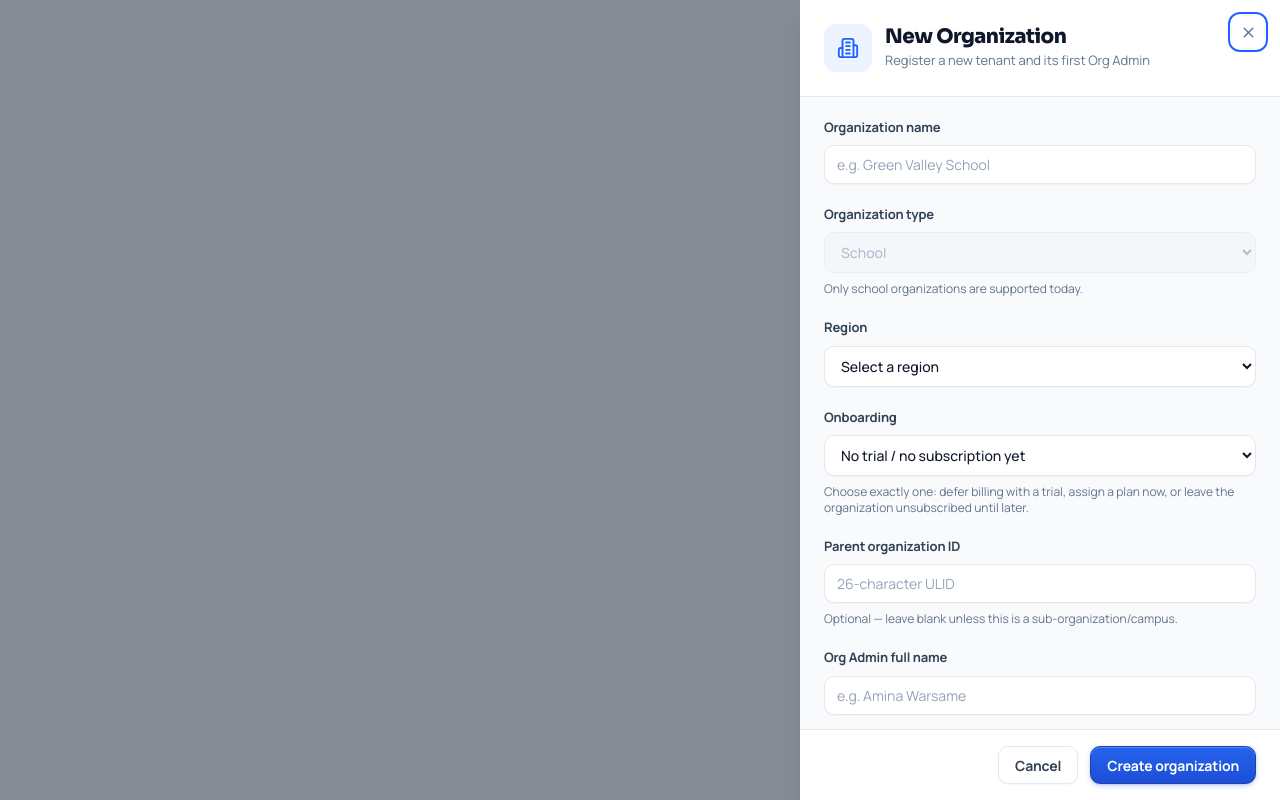
Test: CreateOrganizationForm › rejects a malformed parent organization id
Type "Green Valley School" into the field with placeholder "e.g. Green Valley School".
click(1040, 165); type("Green Valley School")  # box [824,145,1256,184]
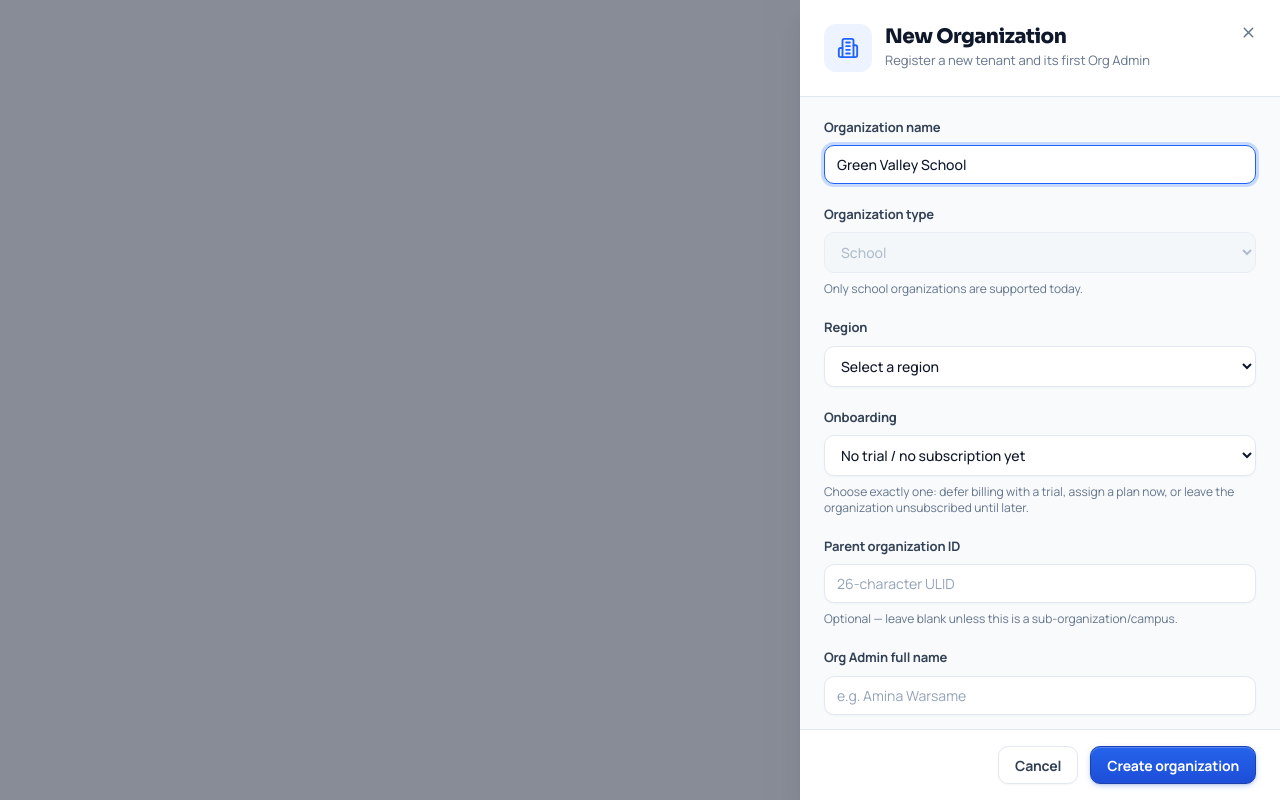
Select "Northern Region" in the dropdown labelled "Region" at (1040, 366), box [824,346,1256,387]
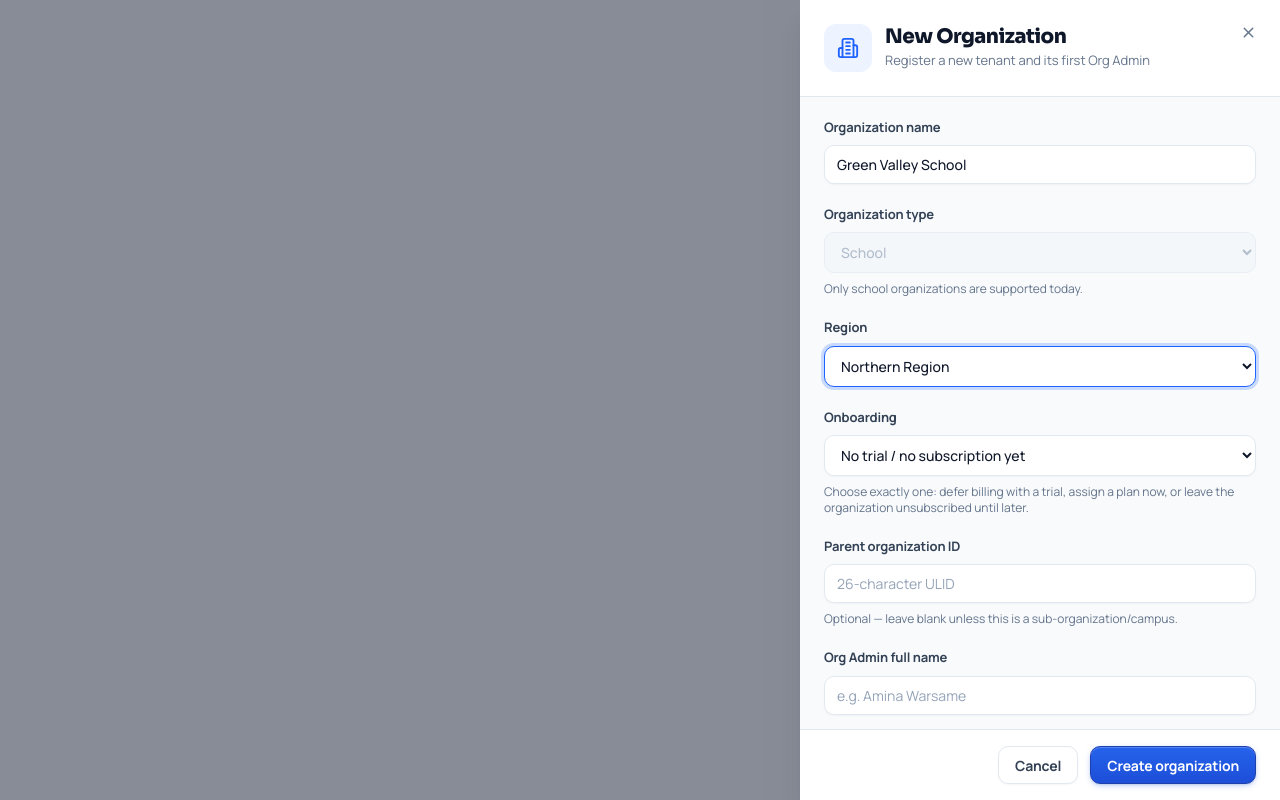
Type "Amina Warsame" into the field with placeholder "e.g. Amina Warsame".
click(1040, 695); type("Amina Warsame")  # box [824,676,1256,715]
(page scrolled)
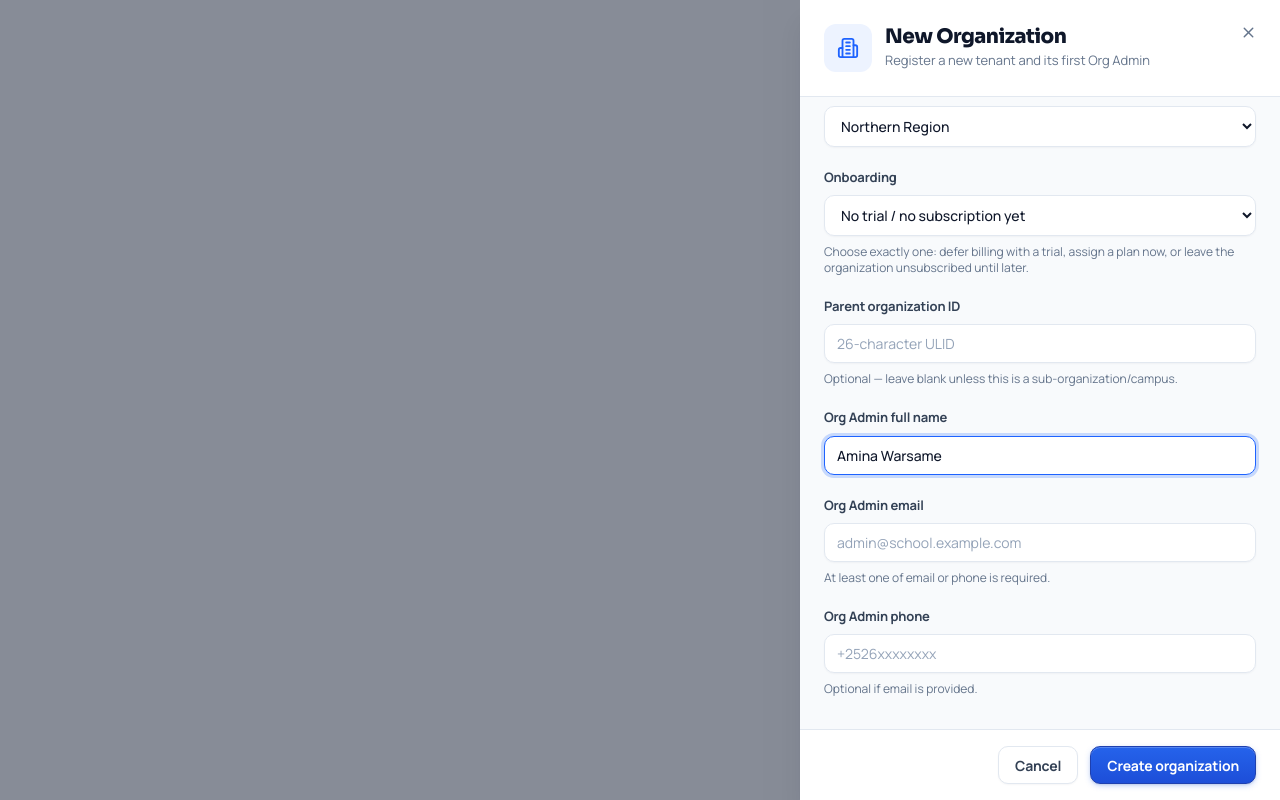
Type "amina@greenvalley.example.com" into the field with placeholder "admin@school.example.com".
click(1040, 542); type("amina@greenvalley.example.com")  # box [824,523,1256,562]
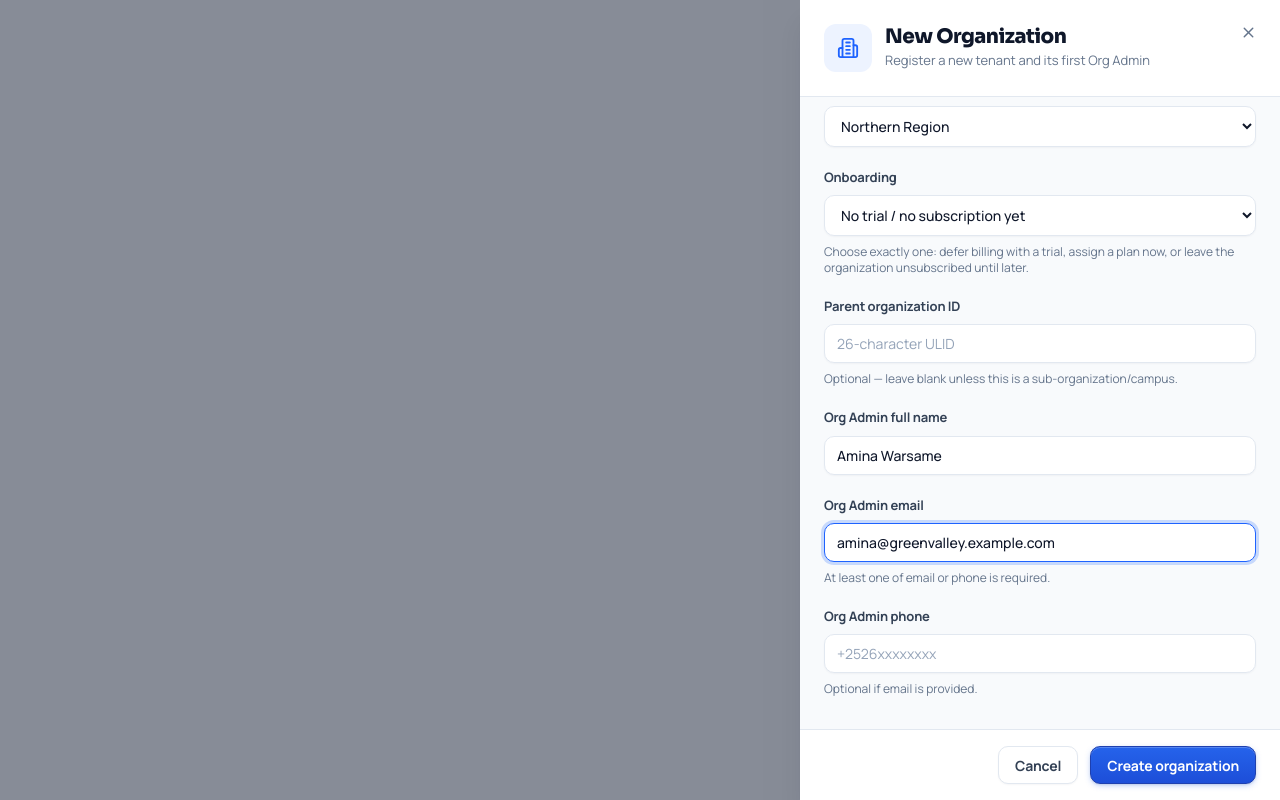
Type "not-a-ulid" into the field with placeholder "26-character ULID".
click(1040, 344); type("not-a-ulid")  # box [824,324,1256,363]
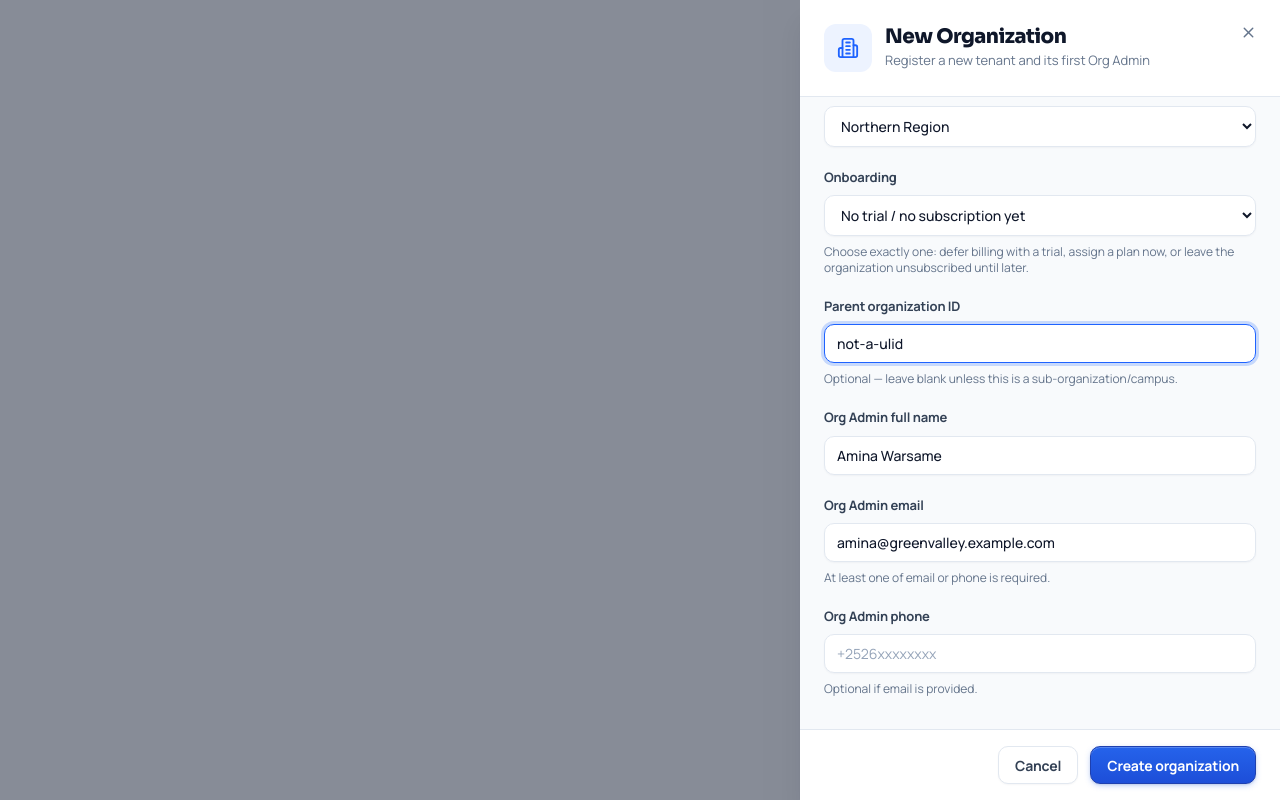
Click the button "Create organization".
click(1173, 765)  # box [1090,746,1256,784]
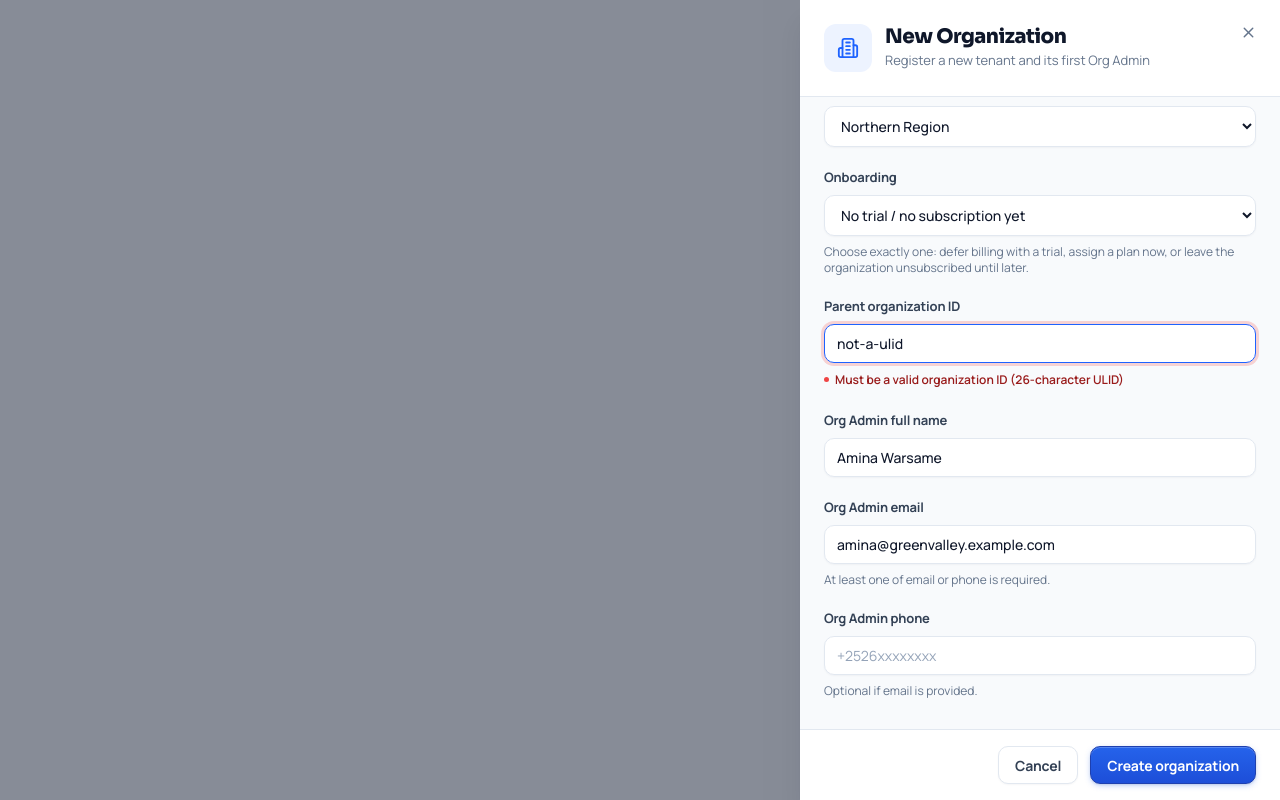
Now the text "Must be a valid organization ID (26-character ULID)" is shown, box [835,371,1124,388]
